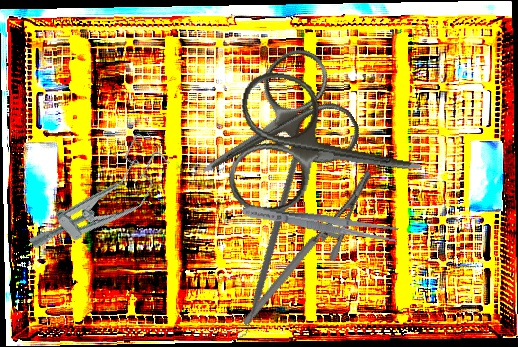Chopper: (186, 153, 343, 342)
Dressing Forceps: (240, 200, 400, 245)
Iris Scissors: (223, 66, 435, 239), (172, 39, 369, 222)
Needle Holder: (208, 168, 405, 327)
Speculum: (20, 127, 182, 276)
